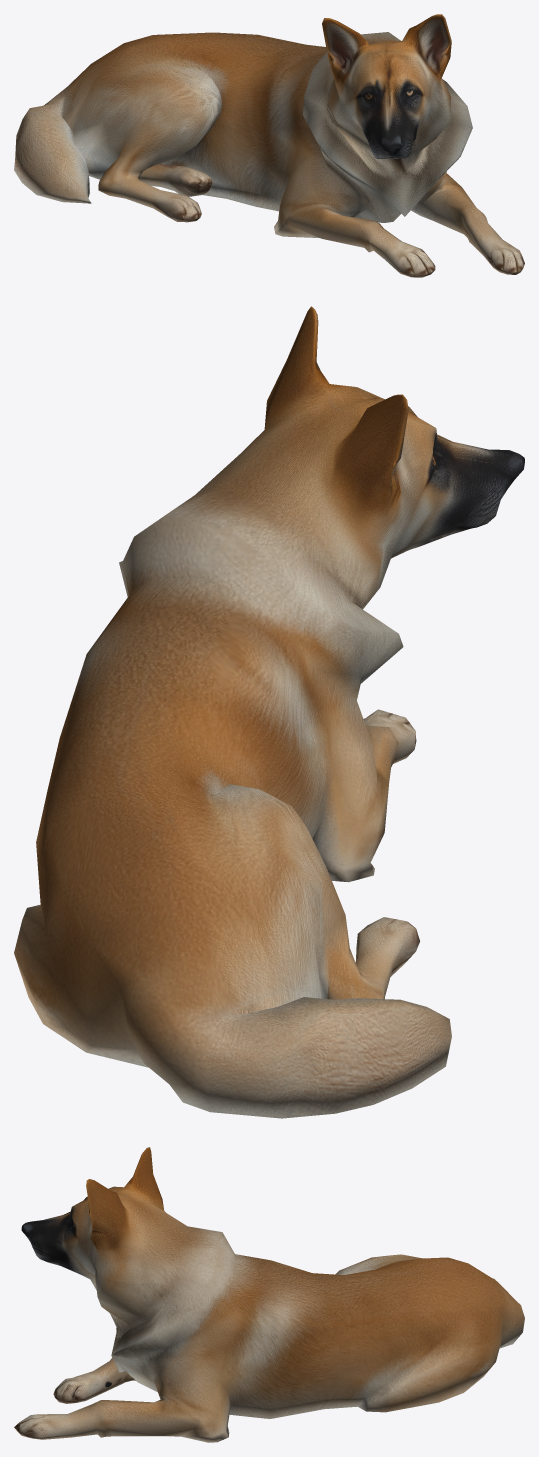
Rendered from kopek.glb.
3 renders of one model, top to bottom at view 1: azimuth 30°, elevation 25°; view 2: azimuth 150°, elevation 25°; view 3: azimuth 270°, elevation 25°, orthographic. The views are drawn at different scales.
Size of the model in its own units: 0.6245 by 0.4854 by 0.9561.
Materials: 1 (1 with a texture image).
